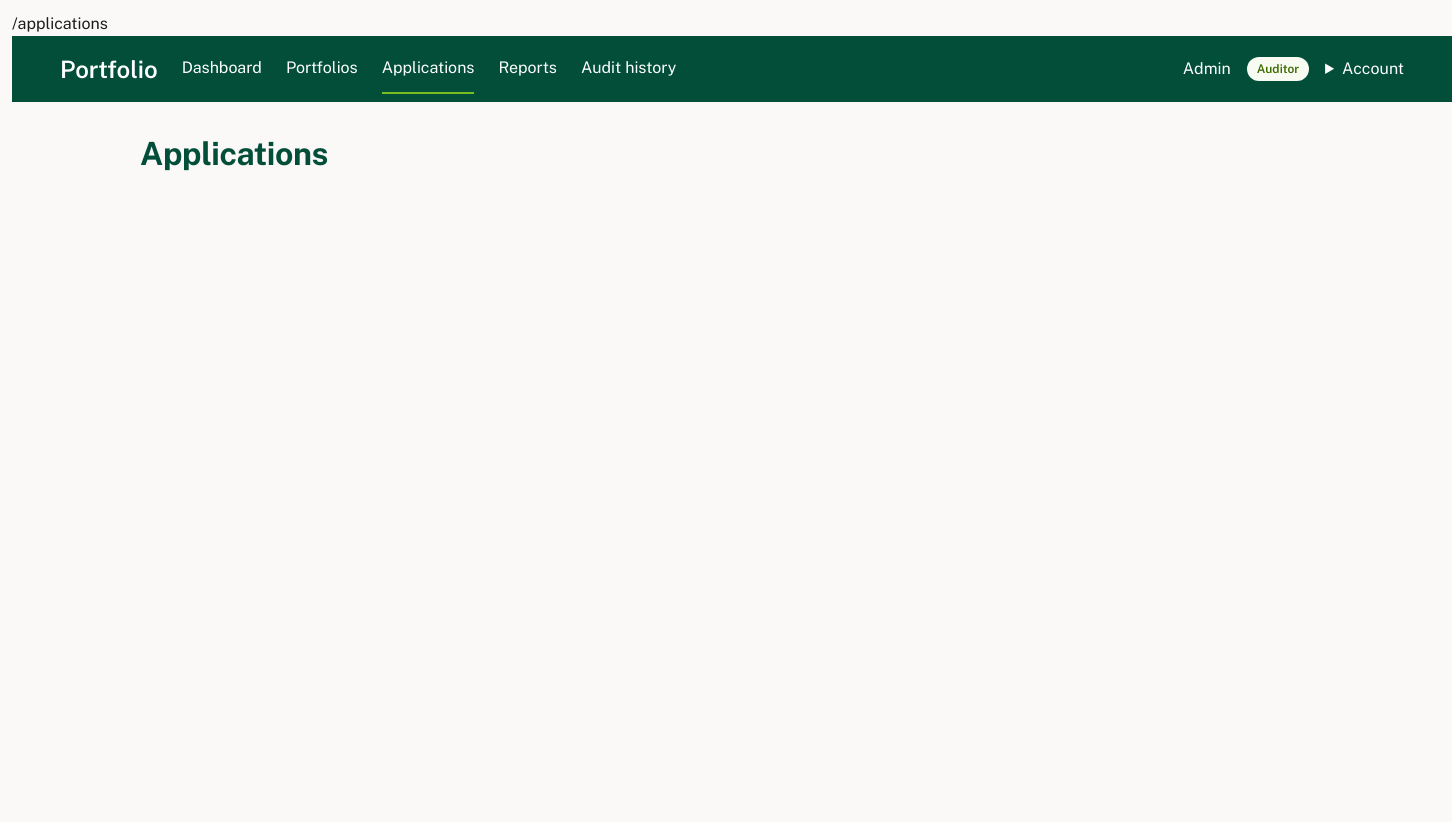
Test: offers Auditor separate history navigation with no Administration or export
What coordinates should you click on to do the following:
click the link "Audit history"
I would click on:
 (629, 68)
Its box is [581, 58, 676, 77].
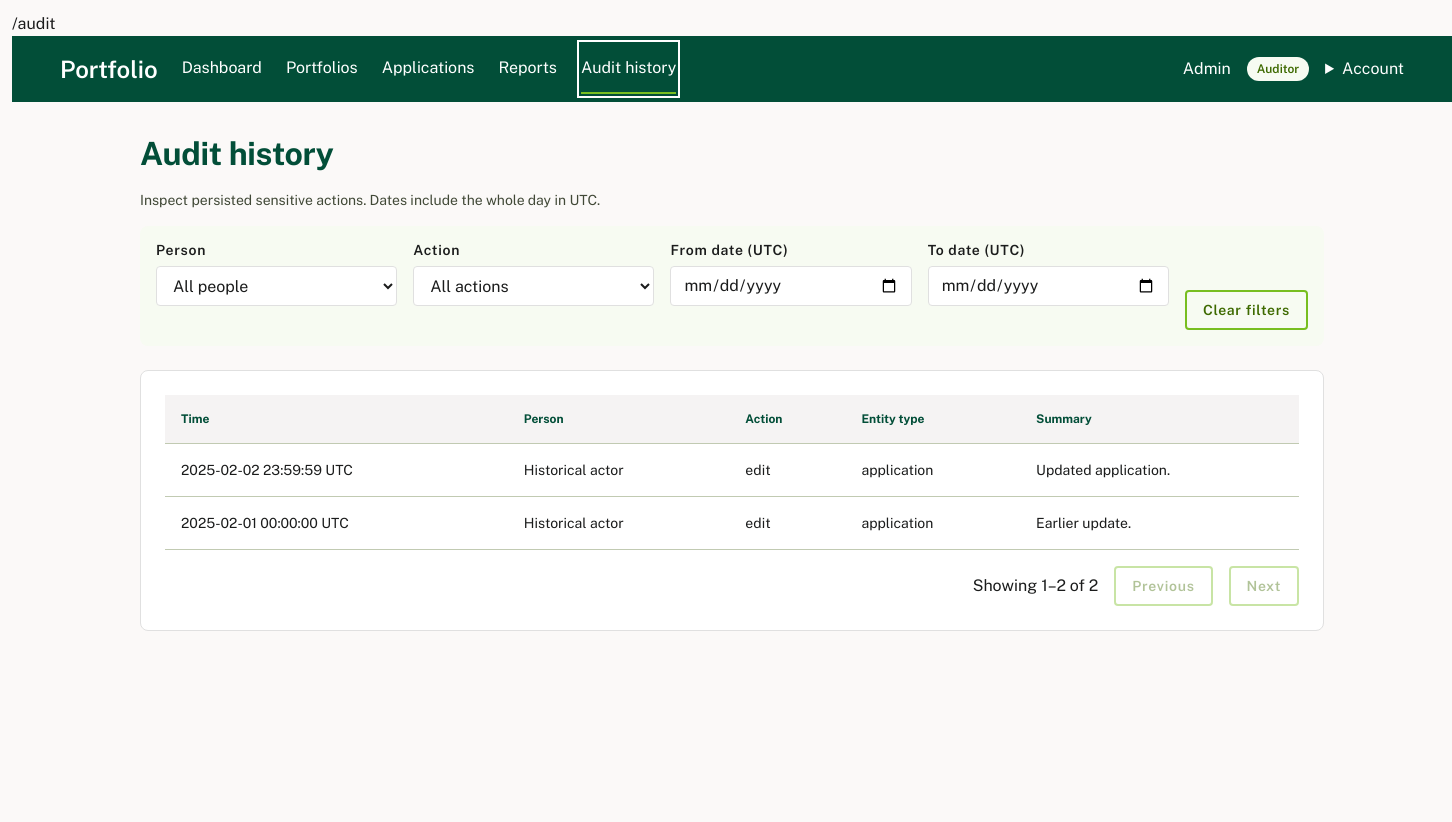
Expected: the table is shown, [165, 395, 1299, 550]
Expected: the heading "Audit history" is shown, [140, 135, 334, 172]
